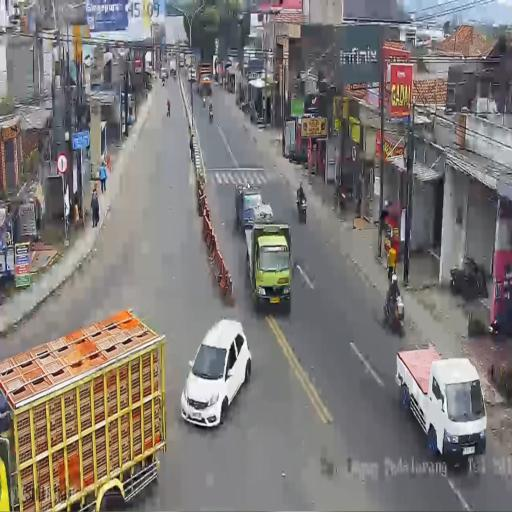3: (394, 345, 485, 462), (200, 64, 212, 88)
car: (181, 318, 252, 426), (247, 222, 291, 311), (235, 183, 261, 232), (145, 62, 155, 78), (188, 68, 197, 82), (160, 67, 168, 80), (170, 60, 176, 76), (180, 57, 184, 67)
